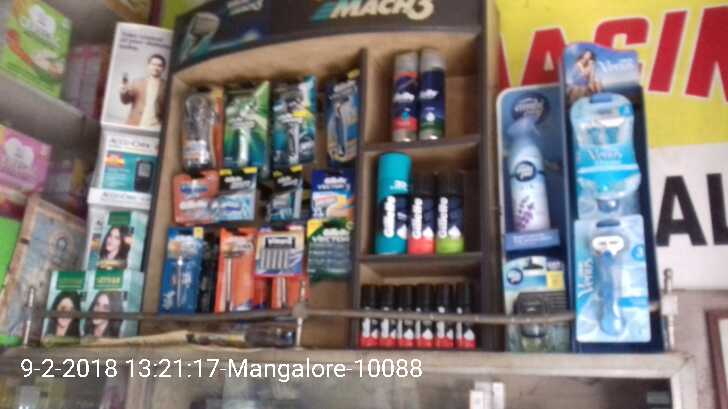beauty: (577, 221, 650, 338), (568, 101, 645, 198), (225, 80, 264, 168), (271, 81, 312, 159), (377, 156, 405, 252), (326, 80, 359, 156), (418, 49, 444, 138), (392, 50, 417, 141), (309, 221, 351, 275), (438, 174, 464, 252), (312, 173, 354, 218), (411, 170, 434, 250), (219, 173, 254, 217), (271, 171, 301, 218)
home: (495, 87, 569, 230), (504, 265, 571, 351)
